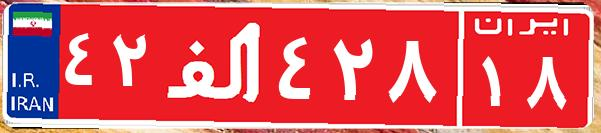1: (475, 38, 525, 113)
2: (330, 28, 385, 110), (110, 28, 158, 105)
4: (273, 28, 330, 110), (57, 26, 110, 107)
8: (385, 28, 445, 110), (525, 38, 570, 115)
الف: (158, 15, 273, 115)
